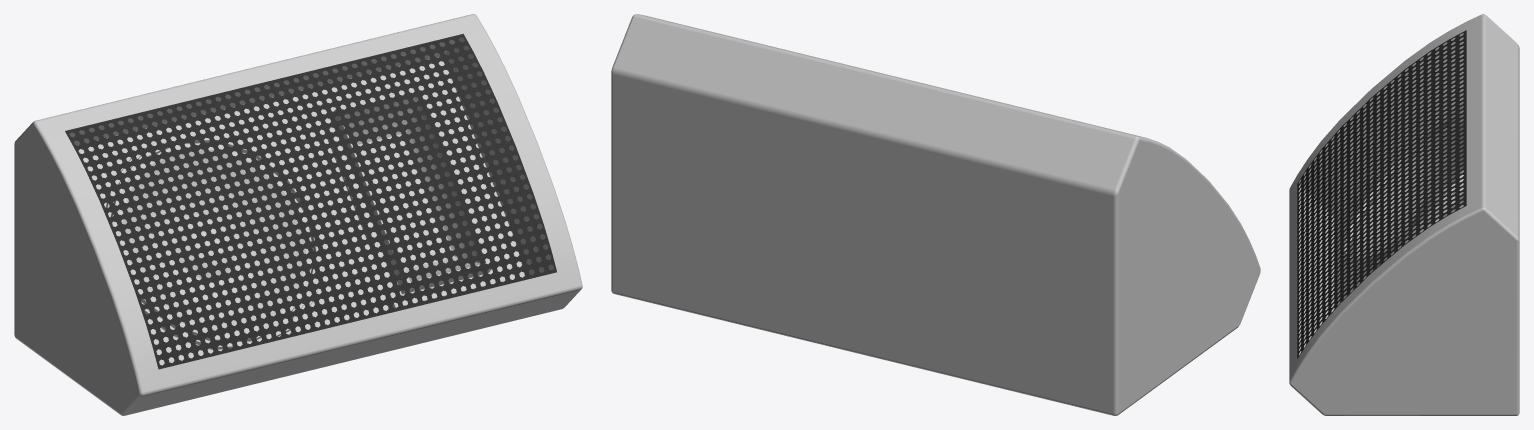
The model's file is MonitorSpeaker_R.fbx.
3 views of the same model, side by side, from view 1: azimuth 30°, elevation 25°; view 2: azimuth 150°, elevation 25°; view 3: azimuth 270°, elevation 25° (orthographic). The views are drawn at different scales.
Parts seen in each view (by area): view 1: MonitorSpeaker_R; view 2: MonitorSpeaker_R; view 3: MonitorSpeaker_R.
Boxes of the visible parts, x1=… form: MonitorSpeaker_R: x1=14, y1=14, x2=582, y2=415; MonitorSpeaker_R: x1=611, y1=14, x2=1260, y2=415; MonitorSpeaker_R: x1=1289, y1=14, x2=1519, y2=415.
Size of the model in its own units: 0.7158 by 0.3563 by 0.3563.
